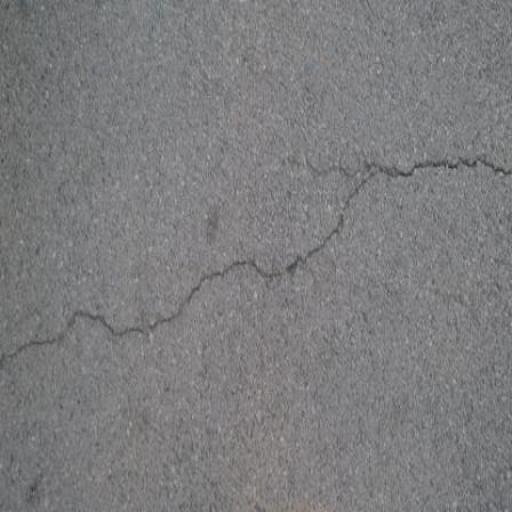spalling: (6, 146, 507, 373)
